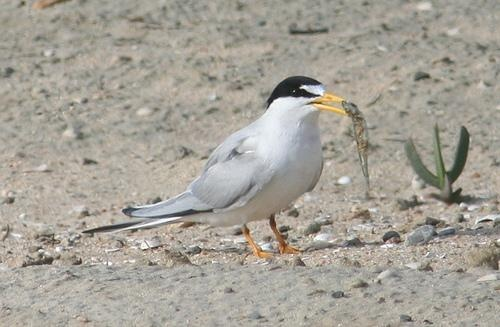bird: (88, 75, 358, 257)
